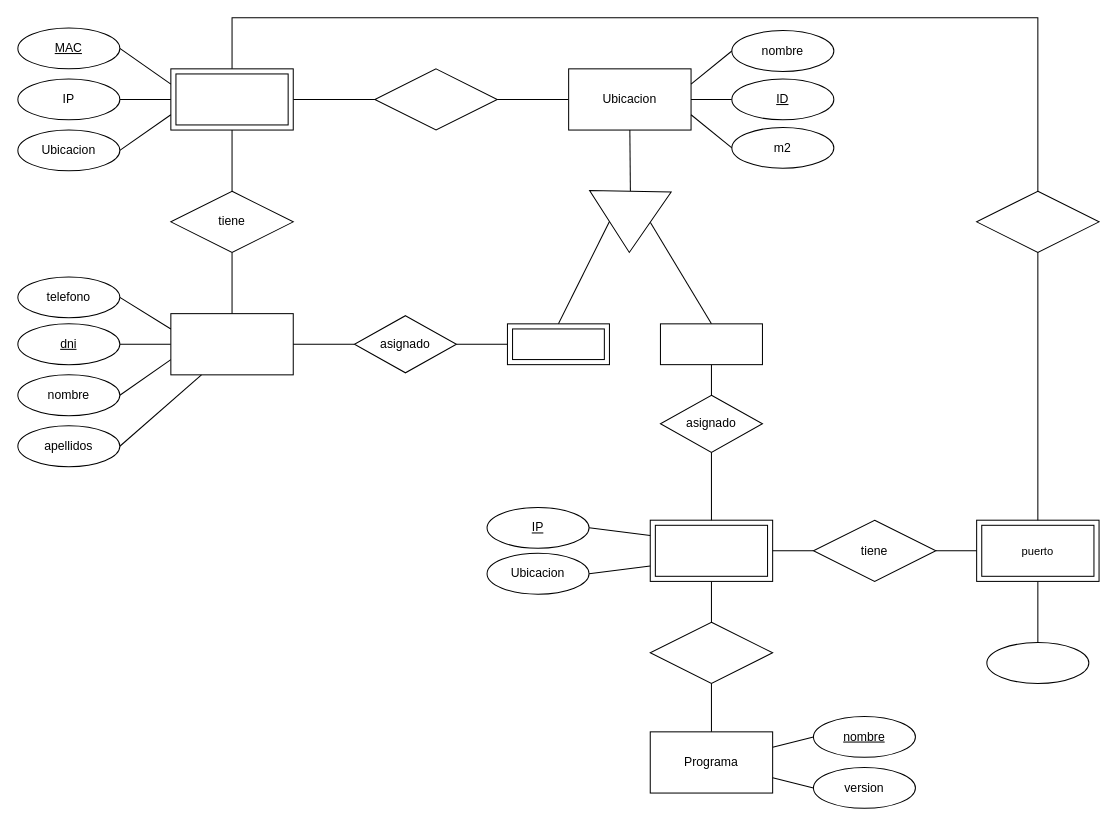
Some shapes in this 1117 by 826 pixel diagram are drawn without their labels. The box of each missing label's shape, as (x1, y1, x2, y2) in pixels:
asociado: (374, 68, 497, 130)
conectado: (976, 190, 1099, 252)
despacho: (506, 323, 609, 365)
ejecuta: (649, 621, 773, 683)
Laboratorio: (659, 323, 762, 365)
Nº puerto: (986, 642, 1089, 683)
Ordenador: (170, 68, 293, 130)
Propietario: (170, 313, 293, 375)
switches: (649, 519, 773, 581)
